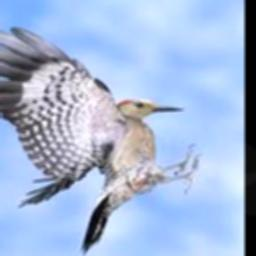Woodpecker: (0, 27, 202, 254)
